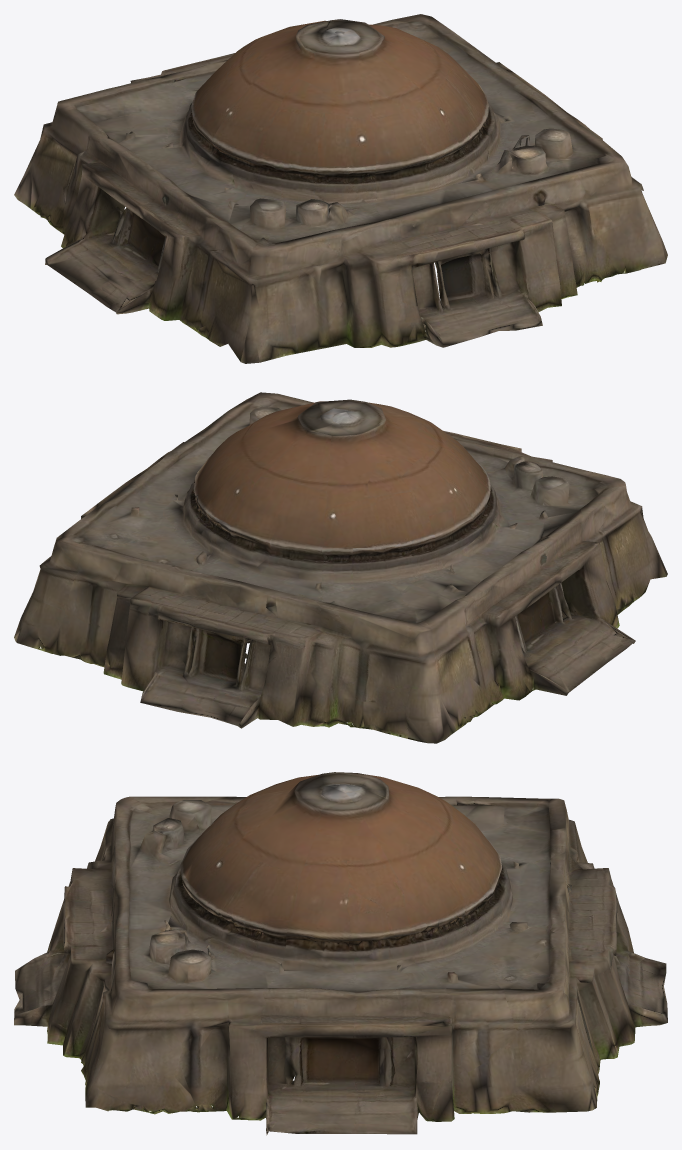
Rendered from bunker_dome.glb.
3 renders of one model, top to bottom at view 1: azimuth 30°, elevation 25°; view 2: azimuth 150°, elevation 25°; view 3: azimuth 270°, elevation 25°, orthographic. The views are drawn at different scales.
Visible parts, largest first — view 1: bunker_dome; view 2: bunker_dome; view 3: bunker_dome.
Part boxes in pixels (x1,y1,x2,y2): bunker_dome: [14, 14, 667, 363]; bunker_dome: [14, 392, 667, 743]; bunker_dome: [14, 772, 667, 1135].
Bounding box in the file's own units: 2 × 0.765 × 2.
Materials: 1 (1 with a texture image).
